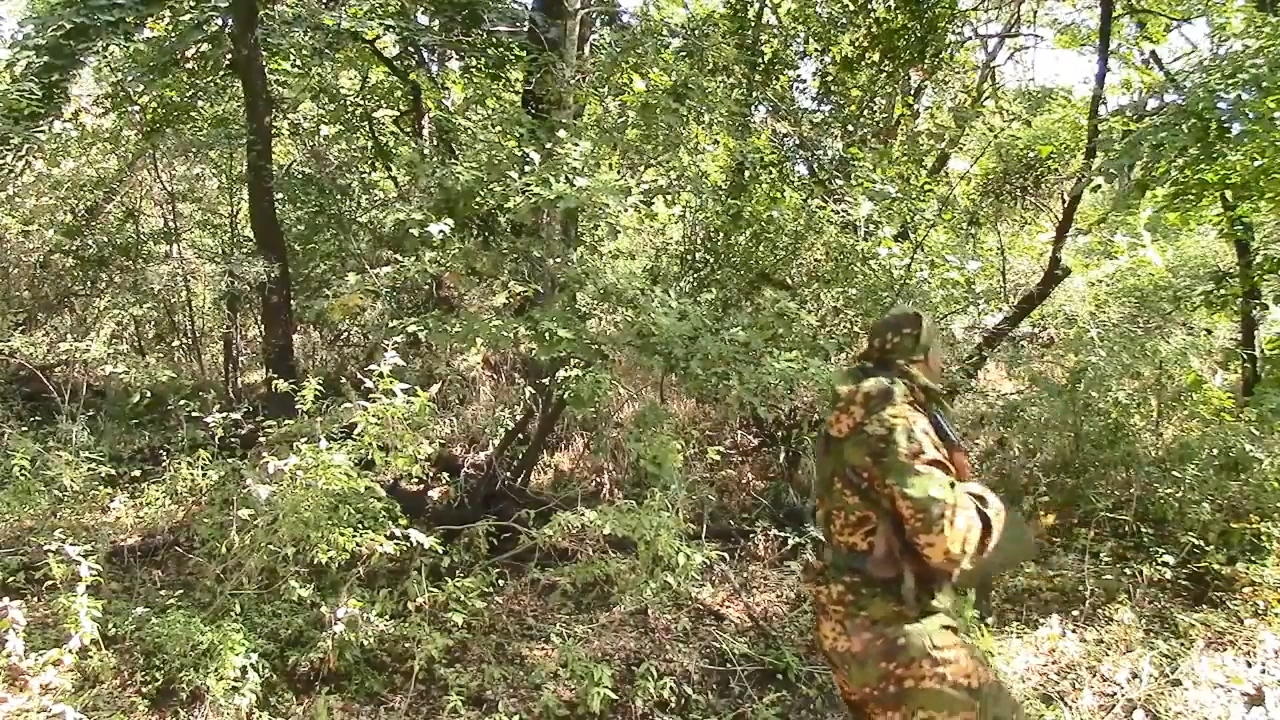person: (779, 296, 1048, 715)
